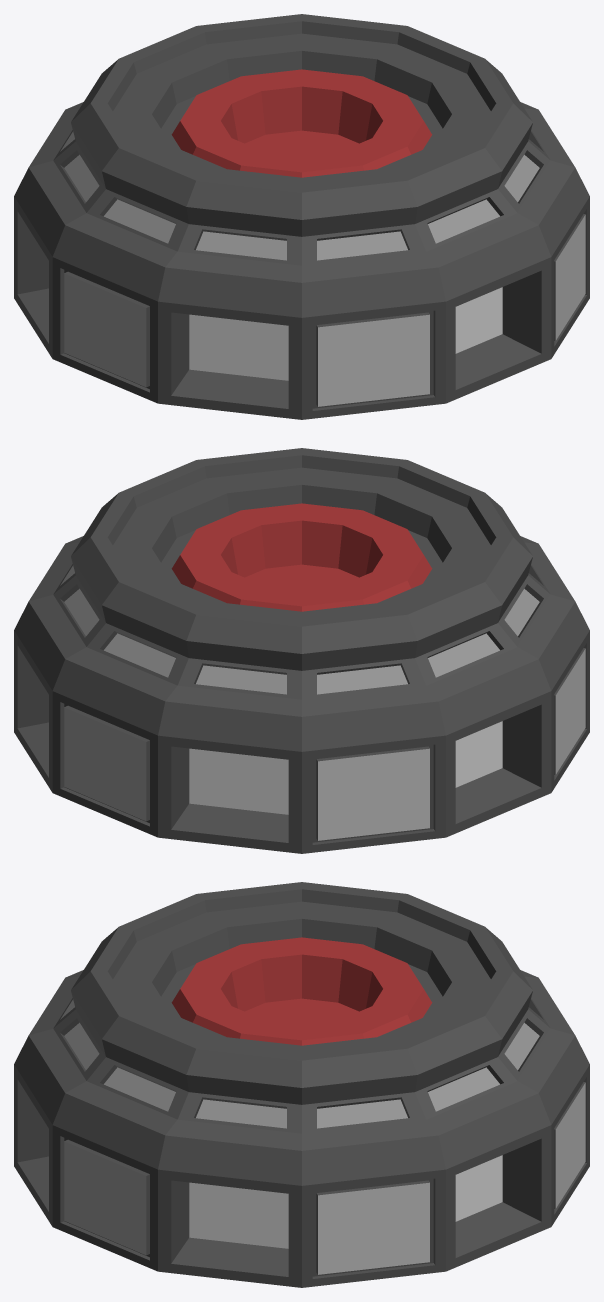
The model's file is tower0.fbx.
3 renders of one model, top to bottom at view 1: azimuth 30°, elevation 25°; view 2: azimuth 150°, elevation 25°; view 3: azimuth 270°, elevation 25°, orthographic.
Parts seen in each view (by area): view 1: pCylinder4; view 2: pCylinder4; view 3: pCylinder4.
Part boxes in pixels (x1,y1,x2,y2): pCylinder4: [14, 14, 589, 419]; pCylinder4: [14, 448, 589, 853]; pCylinder4: [14, 882, 589, 1287].
Size of the model in its own units: 0.9 by 0.3361 by 0.9.
